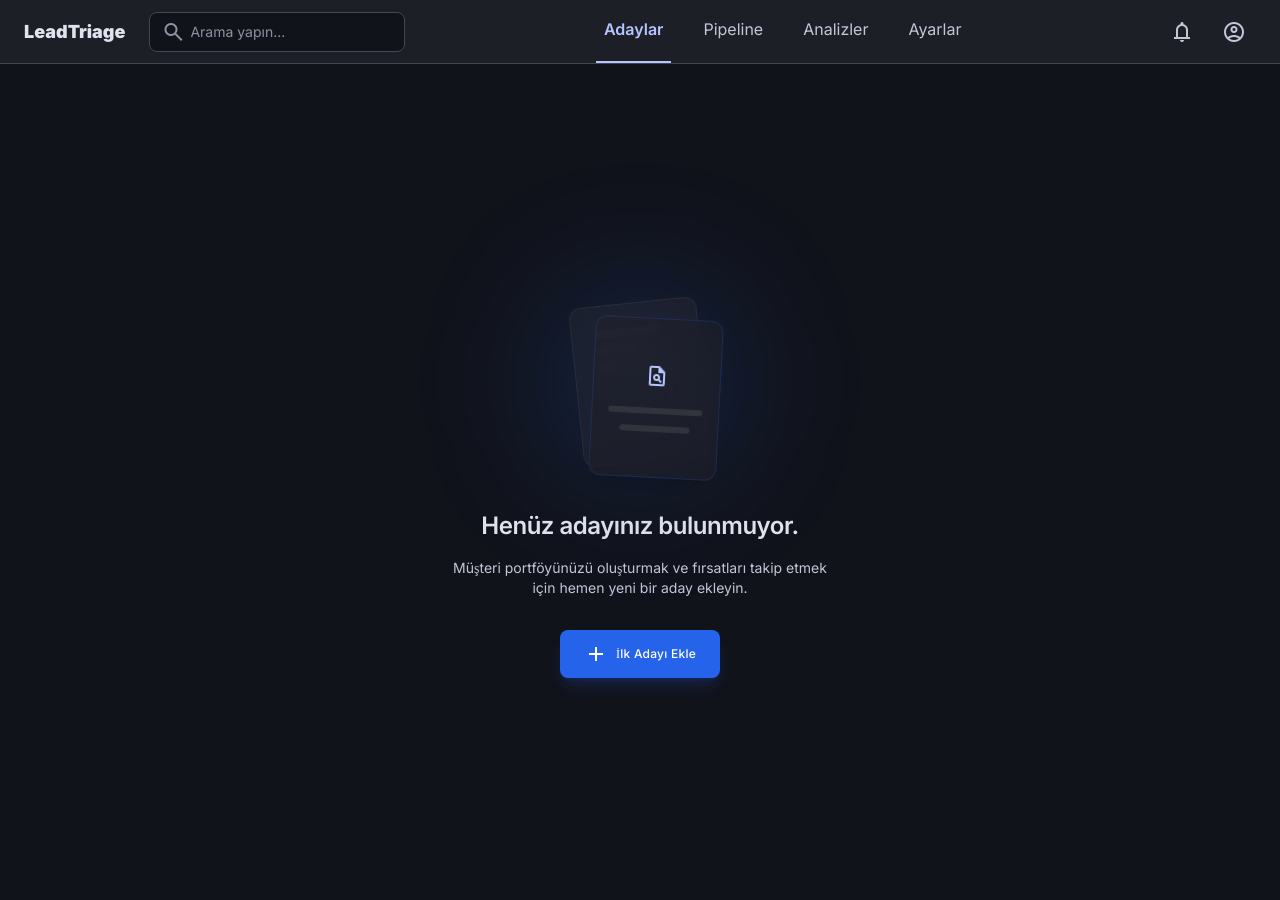
App › opens add lead modal
Click the button "İlk Adayı Ekle".
click(640, 654)  # box 560,630 -> 720,678
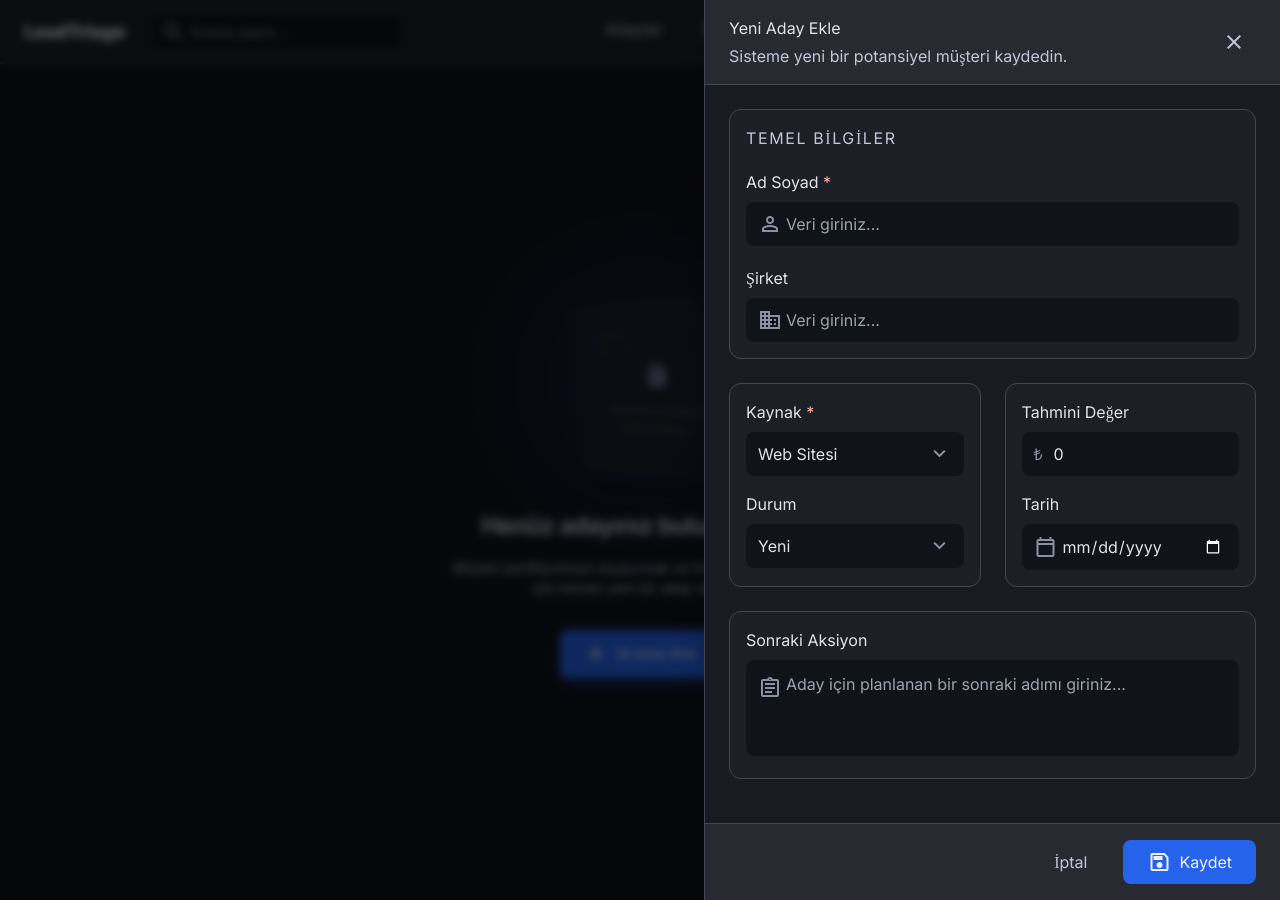
Now the heading "Yeni Aday Ekle" is shown, box 729,18 -> 840,38
